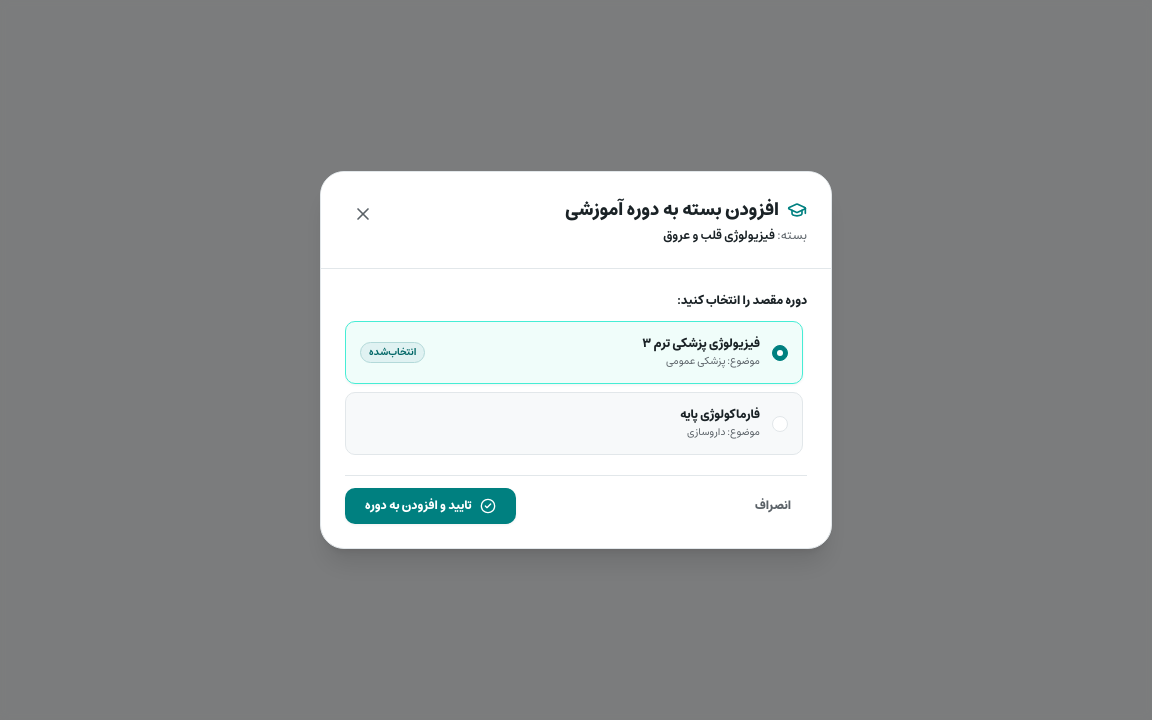
Test: Public Content Library & Content Packs Web UI Suite › Add to Course Selection & Result Flows › handles already_installed === true gracefully without duplicate insertion
Expected: the heading "فیزیولوژی پزشکی ترم ۳" is shown, [642, 336, 760, 352]
Click the button "تایید و افزودن به دوره" at (430, 506), box [345, 488, 516, 524]
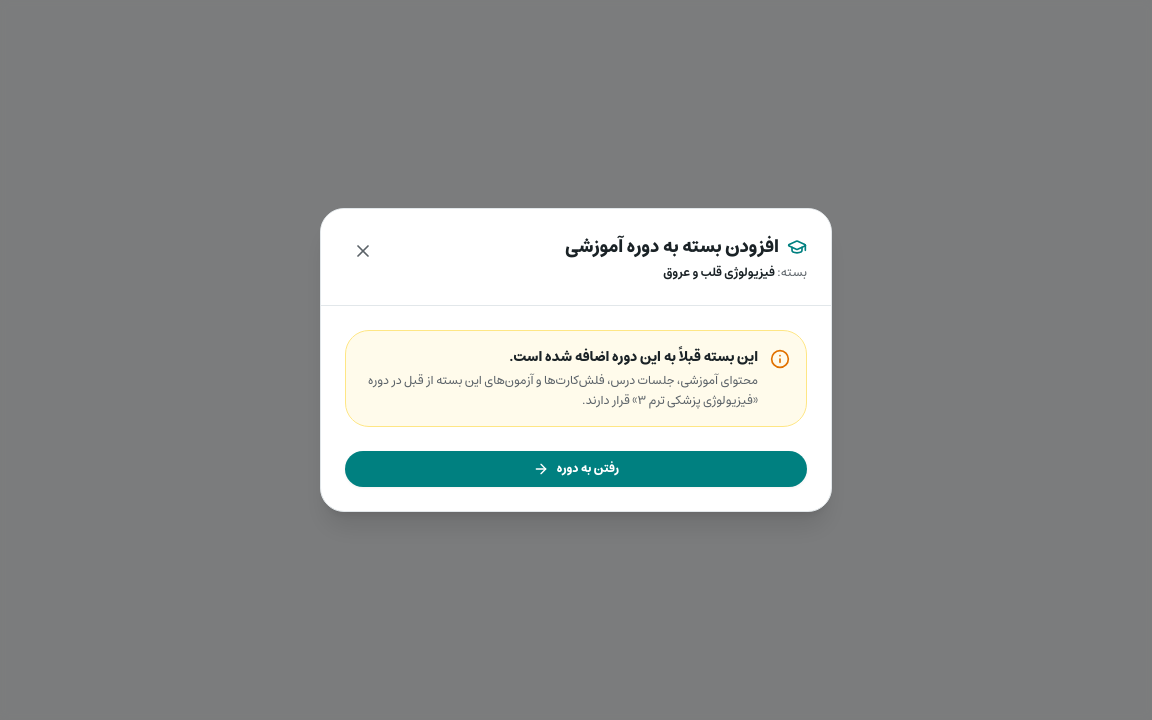
Now the heading "این بسته قبلاً به این دوره اضافه شده است." is shown, box [509, 345, 758, 369]
